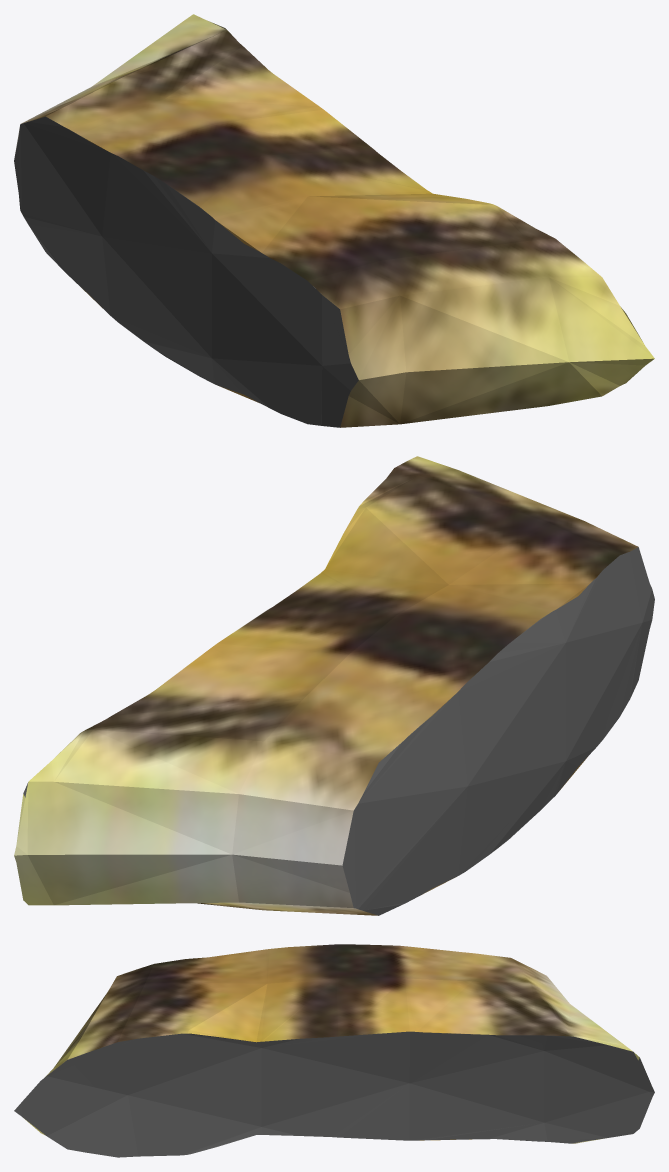
The picture shows the model from 3 angles, top to bottom: view 1: azimuth 30°, elevation 25°; view 2: azimuth 150°, elevation 25°; view 3: azimuth 270°, elevation 25°; orthographic projection. The views are drawn at different scales.
Visible parts, largest first — view 1: link_13_visual; view 2: link_13_visual; view 3: link_13_visual.
Part boxes in pixels (<box>): link_13_visual: <box>14,14,654,427</box>; link_13_visual: <box>14,456,654,915</box>; link_13_visual: <box>14,944,654,1157</box>.
Bounding box in the file's own units: 0.000946 × 0.000558 × 0.00241.
Materials: 1 (1 with a texture image).
